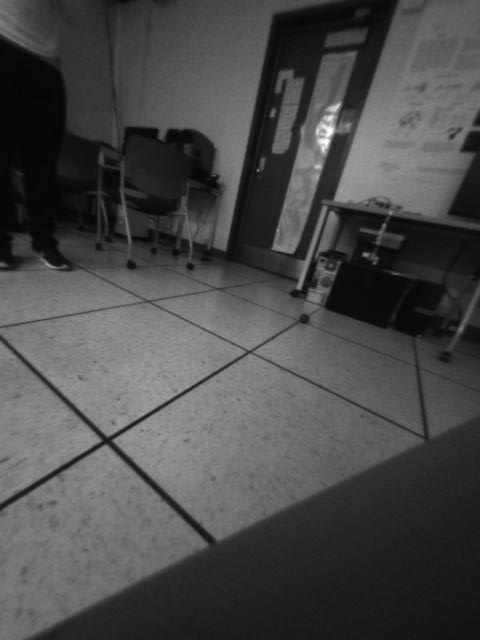dogtoy: (288, 306, 317, 330)
